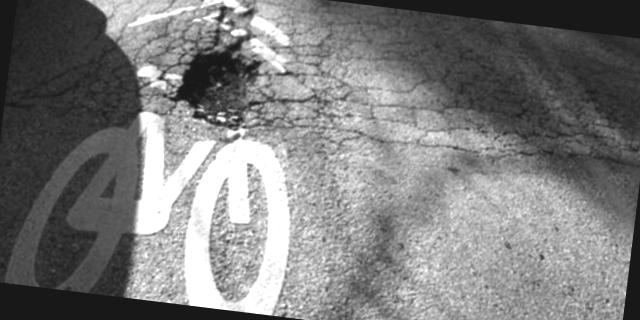Pothole: (167, 0, 308, 158)
